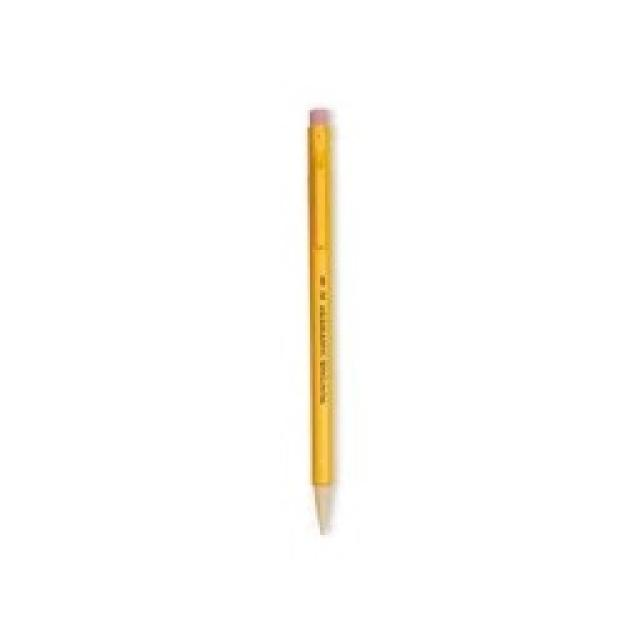pencil: (302, 103, 340, 535)
